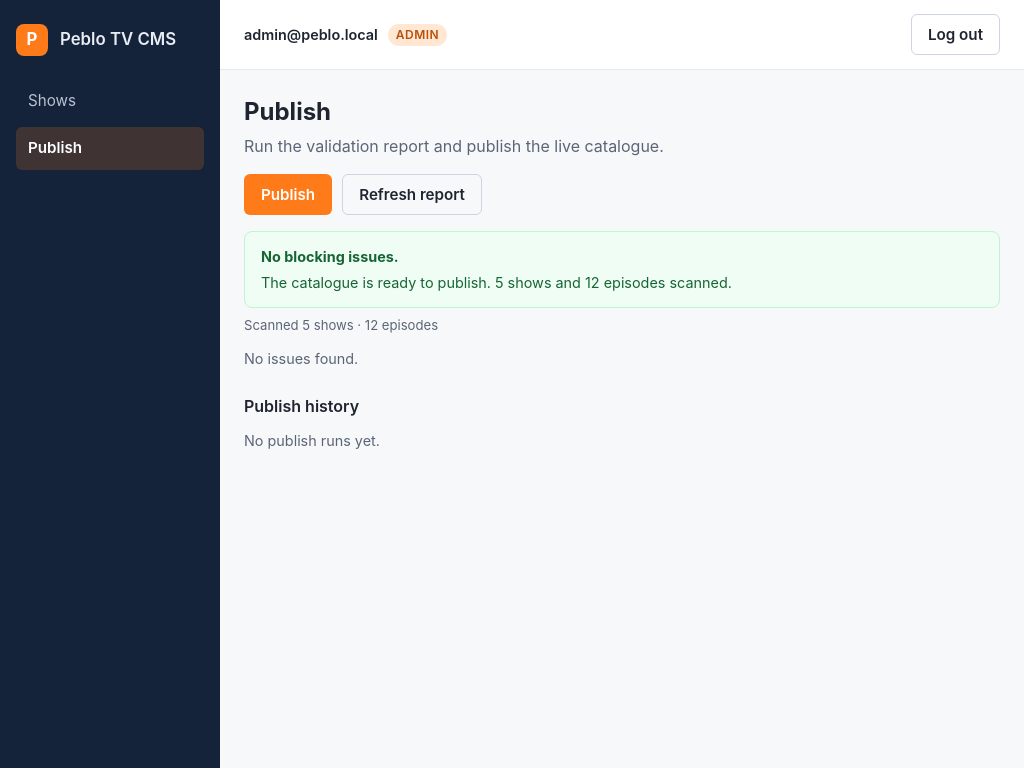
Test: PublishPage › opens confirmation dialog when Publish is clicked
Click the button with test id "publish-button". click: [288, 194]
box: [244,174,332,215]
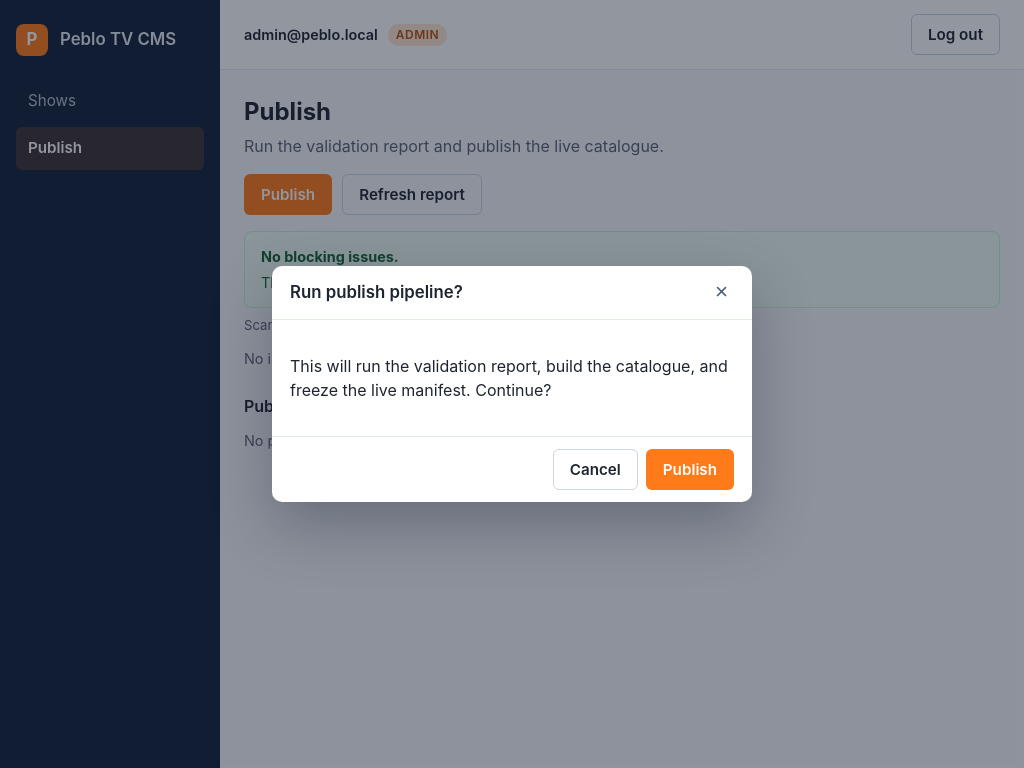
Expected: the element with test id "publish-confirm" is shown
Expected: the heading "Run publish pipeline?" is shown, [290,280,463,305]
